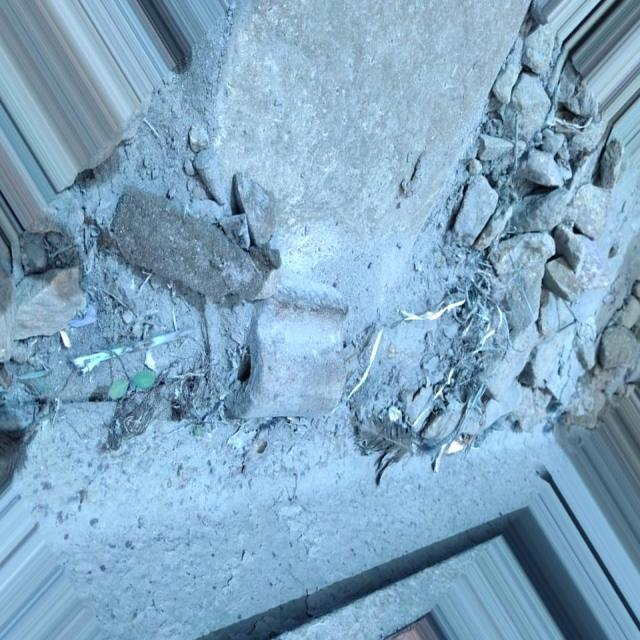Missing Fastener: (225, 220, 349, 436)
